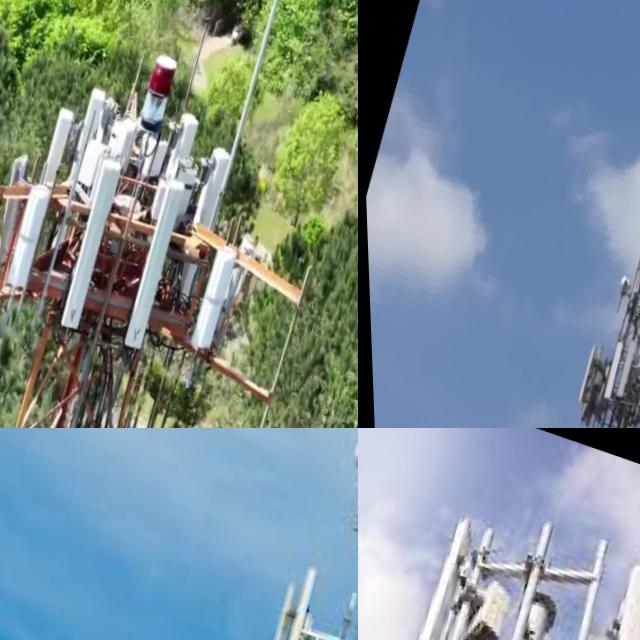GSM Antenna: (97, 154, 196, 364), (42, 143, 136, 344), (387, 493, 487, 640), (176, 225, 251, 358), (0, 179, 55, 301), (573, 550, 640, 640), (61, 72, 115, 179), (264, 553, 329, 640), (242, 557, 309, 640), (0, 150, 37, 271), (30, 101, 79, 187), (591, 334, 628, 411), (606, 333, 640, 397), (627, 342, 640, 411)
Microwave Antenna: (339, 429, 358, 473), (612, 270, 631, 293)
